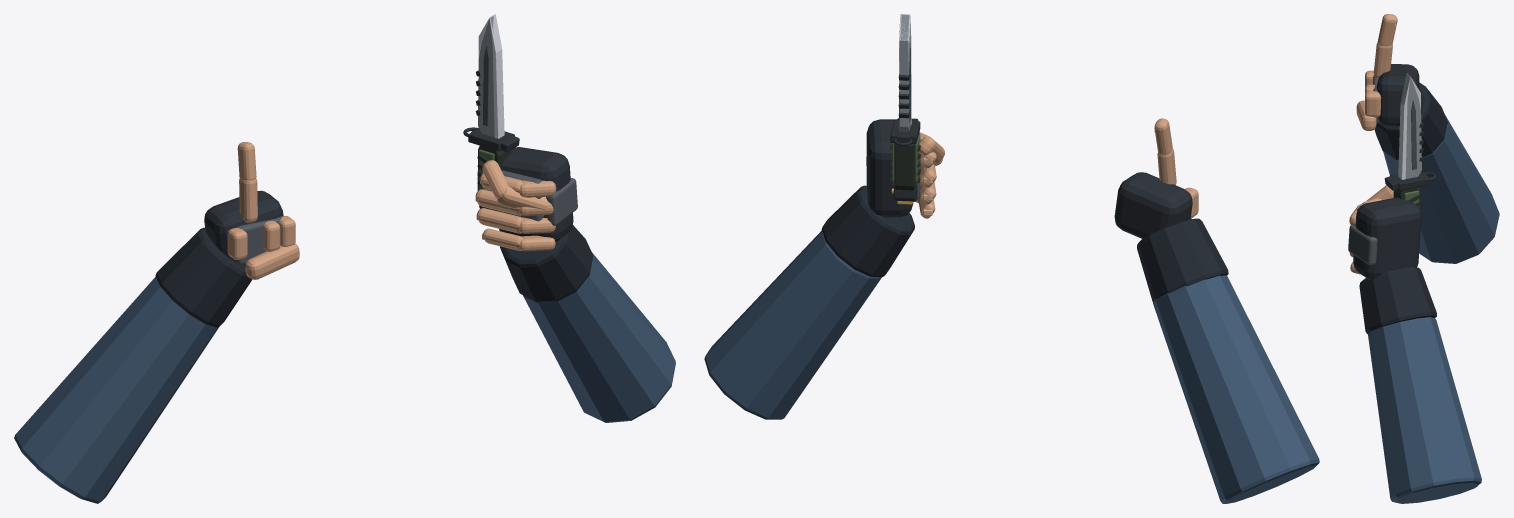
Rendered from knife_viewmodel.glb.
The picture shows the model from 3 angles, left to right: view 1: azimuth 30°, elevation 25°; view 2: azimuth 150°, elevation 25°; view 3: azimuth 270°, elevation 25°; orthographic projection. The views are drawn at different scales.
Visible parts, largest first — view 1: Left_Sleeve, Right_Sleeve, Left_Cuff, Right_Cuff, Right_Glove_Palm, Left_Glove_Palm, Blade_Main, Blade_Cutting_Edge, Left_Thumb_A, Right_Glove_Strap, Left_Finger_2_A, Left_Palm_Pad (+1 smaller); view 2: Left_Sleeve, Right_Sleeve, Right_Cuff, Left_Cuff, Left_Glove_Palm, Right_Glove_Palm, Blade_Main, Grip_Core; view 3: Right_Sleeve, Left_Sleeve, Right_Glove_Palm, Right_Cuff, Left_Cuff, Left_Glove_Palm, Blade_Main, Right_Glove_Strap, Blade_Cutting_Edge, Left_Finger_2_A, Left_Finger_2_B, Left_Finger_4 (+5 smaller).
Boxes of the visible parts, <box> form: Left_Sleeve: <box>14,276,219,503</box>; Right_Sleeve: <box>523,252,675,422</box>; Left_Cuff: <box>155,227,252,327</box>; Right_Cuff: <box>500,225,592,302</box>; Right_Glove_Palm: <box>499,147,573,241</box>; Left_Glove_Palm: <box>204,190,283,264</box>; Blade_Main: <box>478,16,494,137</box>; Blade_Cutting_Edge: <box>489,14,504,138</box>; Left_Thumb_A: <box>245,244,299,279</box>; Right_Glove_Strap: <box>546,178,577,225</box>; Left_Finger_2_A: <box>239,178,257,222</box>; Left_Palm_Pad: <box>236,216,281,264</box>; Left_Sleeve: <box>1153,275,1319,503</box>; Right_Sleeve: <box>704,230,881,419</box>; Right_Cuff: <box>821,185,914,277</box>; Left_Cuff: <box>1137,218,1228,301</box>; Left_Glove_Palm: <box>1114,172,1192,238</box>; Right_Glove_Palm: <box>866,119,913,217</box>; Blade_Main: <box>899,14,910,131</box>; Grip_Core: <box>894,144,915,190</box>; Right_Sleeve: <box>1368,317,1481,503</box>; Left_Sleeve: <box>1383,115,1499,263</box>; Right_Glove_Palm: <box>1353,197,1421,279</box>; Right_Cuff: <box>1359,266,1436,334</box>; Left_Cuff: <box>1374,82,1447,160</box>; Left_Glove_Palm: <box>1376,64,1419,125</box>; Blade_Main: <box>1401,75,1421,178</box>; Right_Glove_Strap: <box>1348,225,1377,265</box>; Blade_Cutting_Edge: <box>1398,73,1410,179</box>; Left_Finger_2_A: <box>1373,42,1392,78</box>; Left_Finger_2_B: <box>1377,14,1397,45</box>; Left_Finger_4: <box>1365,91,1381,117</box>.
Bounding box in the file's own units: 1.17 × 0.7689 × 0.2795.
